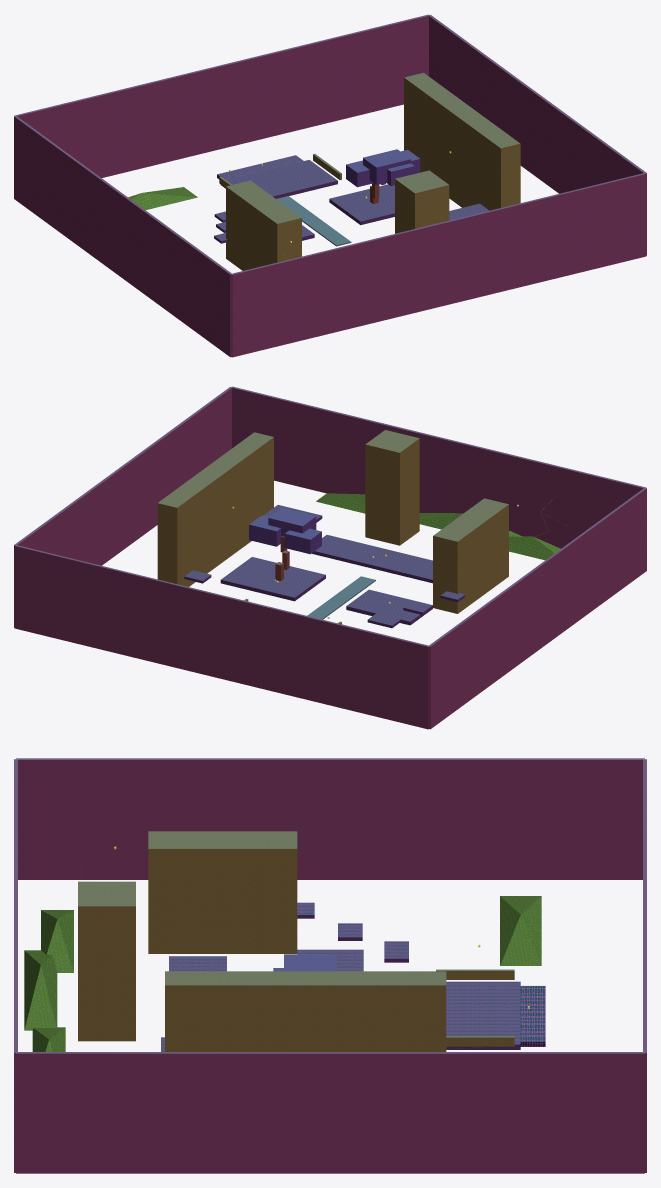
The model's file is neon-backstreets.glb.
The picture shows the model from 3 angles, top to bottom: view 1: azimuth 30°, elevation 25°; view 2: azimuth 150°, elevation 25°; view 3: azimuth 270°, elevation 25°; orthographic projection. The views are drawn at different scales.
Parts seen in each view (by area): view 1: ART_neon-backstreets_psychedelic_horizon_north_wall, ART_neon-backstreets_psychedelic_horizon_south_wall, ART_neon-backstreets_psychedelic_sky_west_wall, ART_neon-backstreets_psychedelic_sky_east_wall, ART_neon-backstreets_right_wave_wall, ART_neon-backstreets_left_glowing_tower, ART_neon-backstreets_rear_glowing_tower, ART_neon-backstreets_floating_platform_entry, WALKABLE_neon-backstreets_floating_platform_entry, WALKABLE_neon-backstreets_right_wave_wall, ART_neon-backstreets_floating_platform_tree_island, WALKABLE_neon-backstreets_floating_platform_tree_island (+13 smaller); view 2: ART_neon-backstreets_psychedelic_horizon_south_wall, ART_neon-backstreets_psychedelic_horizon_north_wall, ART_neon-backstreets_psychedelic_sky_west_wall, ART_neon-backstreets_psychedelic_sky_east_wall, ART_neon-backstreets_right_wave_wall, ART_neon-backstreets_left_glowing_tower, ART_neon-backstreets_rear_glowing_tower, ART_neon-backstreets_floating_platform_far_bridge, ART_neon-backstreets_floating_platform_tree_island, WALKABLE_neon-backstreets_floating_platform_far_bridge, WALKABLE_neon-backstreets_floating_platform_tree_island, WALKABLE_neon-backstreets_right_wave_wall (+16 smaller); view 3: ART_neon-backstreets_psychedelic_sky_east_wall, ART_neon-backstreets_psychedelic_sky_west_wall, ART_neon-backstreets_right_wave_wall, ART_neon-backstreets_left_glowing_tower, ART_neon-backstreets_rear_glowing_tower, ART_neon-backstreets_floating_platform_entry, WALKABLE_neon-backstreets_floating_platform_entry, WALKABLE_neon-backstreets_right_wave_wall, ART_neon-backstreets_cloud_low_violet, WALKABLE_neon-backstreets_left_glowing_tower, ART_neon-backstreets_cloud_ember_center, ART_neon-backstreets_cloud_ember_left (+18 smaller).
Boxes of the visible parts, box(x1,y1,x2,y2) form: ART_neon-backstreets_psychedelic_horizon_north_wall: box(231, 173, 646, 357); ART_neon-backstreets_psychedelic_horizon_south_wall: box(14, 14, 428, 177); ART_neon-backstreets_psychedelic_sky_west_wall: box(14, 116, 231, 357); ART_neon-backstreets_psychedelic_sky_east_wall: box(429, 15, 646, 255); ART_neon-backstreets_right_wave_wall: box(404, 73, 520, 210); ART_neon-backstreets_left_glowing_tower: box(226, 180, 301, 270); ART_neon-backstreets_rear_glowing_tower: box(395, 170, 449, 233); ART_neon-backstreets_floating_platform_entry: box(221, 160, 337, 198); WALKABLE_neon-backstreets_floating_platform_entry: box(227, 160, 336, 195); WALKABLE_neon-backstreets_right_wave_wall: box(405, 73, 519, 147); ART_neon-backstreets_floating_platform_tree_island: box(329, 184, 394, 225); WALKABLE_neon-backstreets_floating_platform_tree_island: box(330, 184, 394, 220); ART_neon-backstreets_psychedelic_horizon_south_wall: box(14, 545, 429, 729); ART_neon-backstreets_psychedelic_horizon_north_wall: box(231, 386, 646, 548); ART_neon-backstreets_psychedelic_sky_west_wall: box(429, 488, 646, 729); ART_neon-backstreets_psychedelic_sky_east_wall: box(14, 387, 231, 627); ART_neon-backstreets_right_wave_wall: box(157, 432, 273, 586); ART_neon-backstreets_left_glowing_tower: box(433, 498, 508, 613); ART_neon-backstreets_rear_glowing_tower: box(365, 430, 419, 545); ART_neon-backstreets_floating_platform_far_bridge: box(312, 535, 432, 583); ART_neon-backstreets_floating_platform_tree_island: box(220, 557, 325, 601); WALKABLE_neon-backstreets_floating_platform_far_bridge: box(316, 535, 432, 579); WALKABLE_neon-backstreets_floating_platform_tree_island: box(221, 557, 324, 597); WALKABLE_neon-backstreets_right_wave_wall: box(158, 432, 272, 507); ART_neon-backstreets_psychedelic_sky_east_wall: box(16, 1052, 644, 1173); ART_neon-backstreets_psychedelic_sky_west_wall: box(16, 758, 644, 879); ART_neon-backstreets_right_wave_wall: box(165, 971, 446, 1051); ART_neon-backstreets_left_glowing_tower: box(148, 831, 297, 953); ART_neon-backstreets_rear_glowing_tower: box(78, 881, 135, 1041); ART_neon-backstreets_floating_platform_entry: box(446, 981, 520, 1049); WALKABLE_neon-backstreets_floating_platform_entry: box(446, 982, 520, 1044); WALKABLE_neon-backstreets_right_wave_wall: box(165, 971, 445, 985); ART_neon-backstreets_cloud_low_violet: box(500, 896, 541, 965); WALKABLE_neon-backstreets_left_glowing_tower: box(148, 831, 296, 848); ART_neon-backstreets_cloud_ember_center: box(24, 950, 57, 1030); ART_neon-backstreets_cloud_ember_left: box(41, 910, 73, 972).
Size of what is drawn, in the model's own units: 84.5 by 32.14 by 76.5.
Materials: 10 (8 with a texture image).
